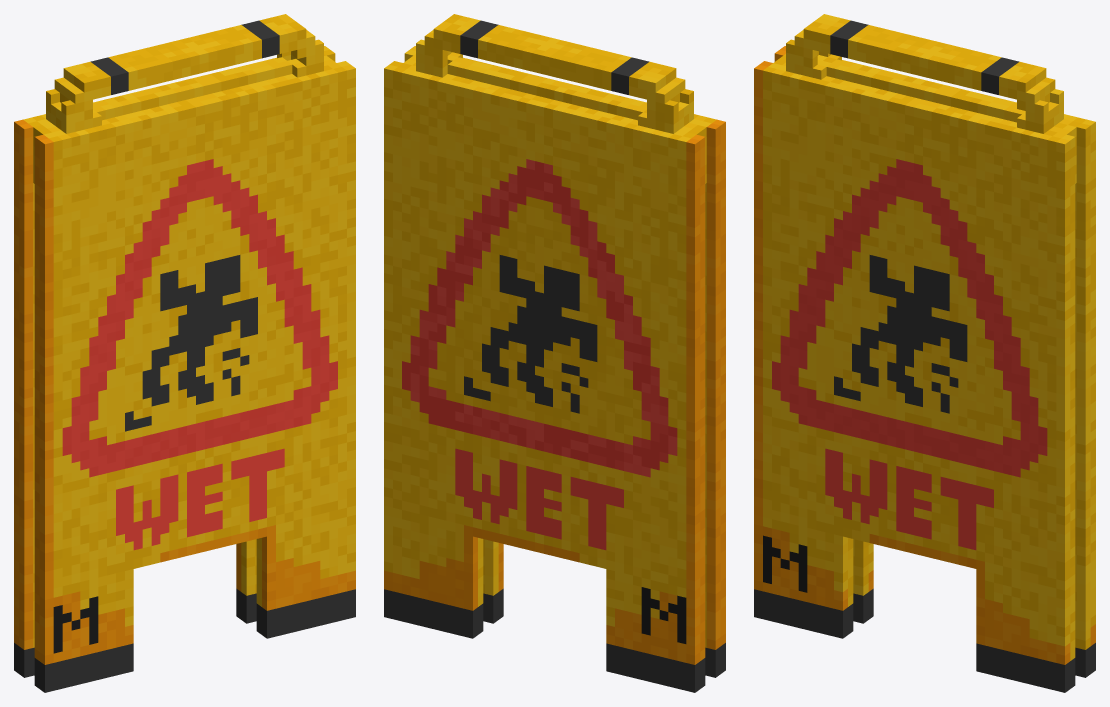
File: SueloMojado.obj
3 renders of one model, left to right at view 1: azimuth 30°, elevation 25°; view 2: azimuth 150°, elevation 25°; view 3: azimuth 330°, elevation 25°, orthographic.
Bounding box in the file's own units: 3.5 × 6.4 × 0.6.
